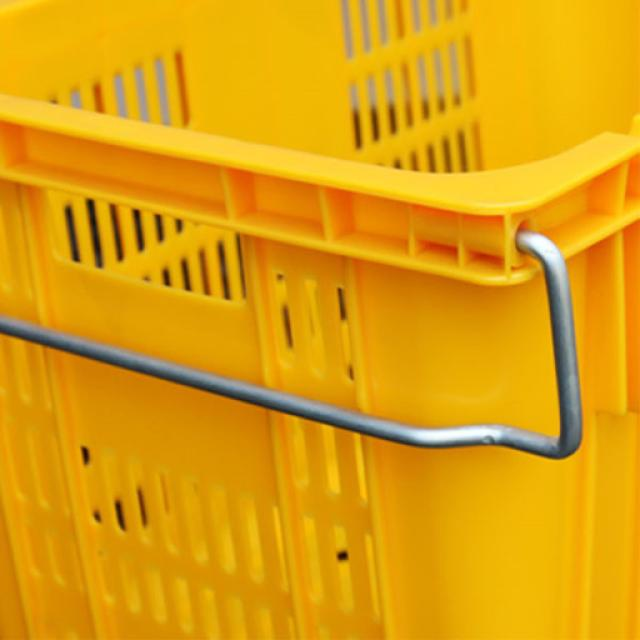basket: (0, 95, 640, 640)
